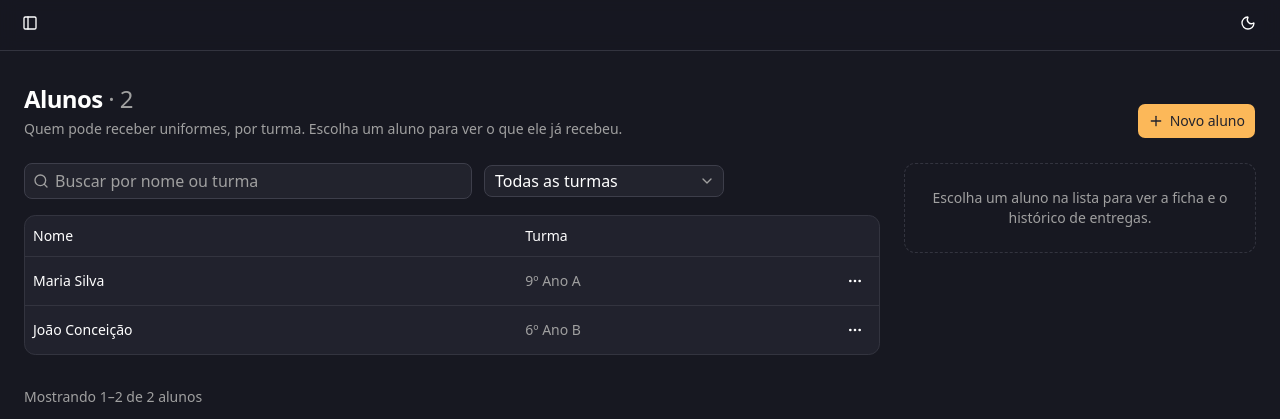
Test: AlunosPage › filtra por nome ignorando acentos
The width and height of the screenshot is (1280, 419).
Check: the link "Maria Silva" is shown, box x1=33 y1=270 x2=104 y2=290
Step 1. Type "conceicao" into the search field with placeholder "Buscar por nome ou turma" → (260, 181), box x1=49 y1=165 x2=471 y2=197
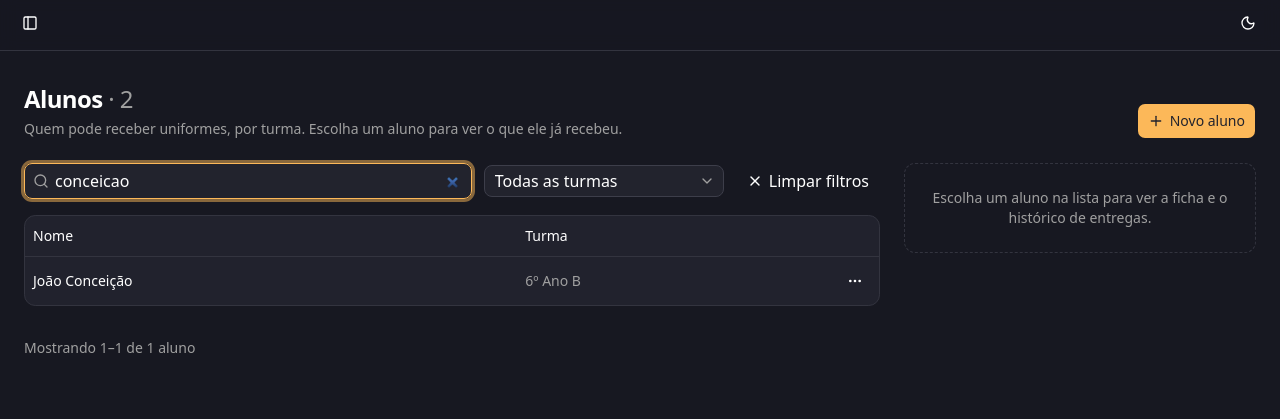
Check: the link "João Conceição" is shown, box x1=33 y1=270 x2=132 y2=290
Check: the link "Maria Silva" is gone
